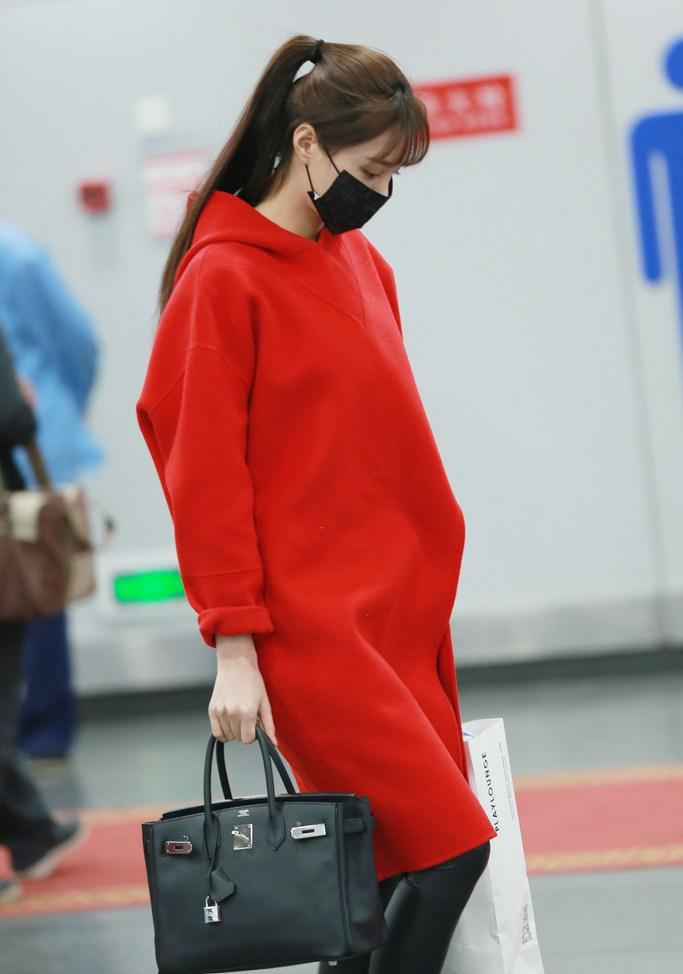OK: (311, 140, 401, 230)
